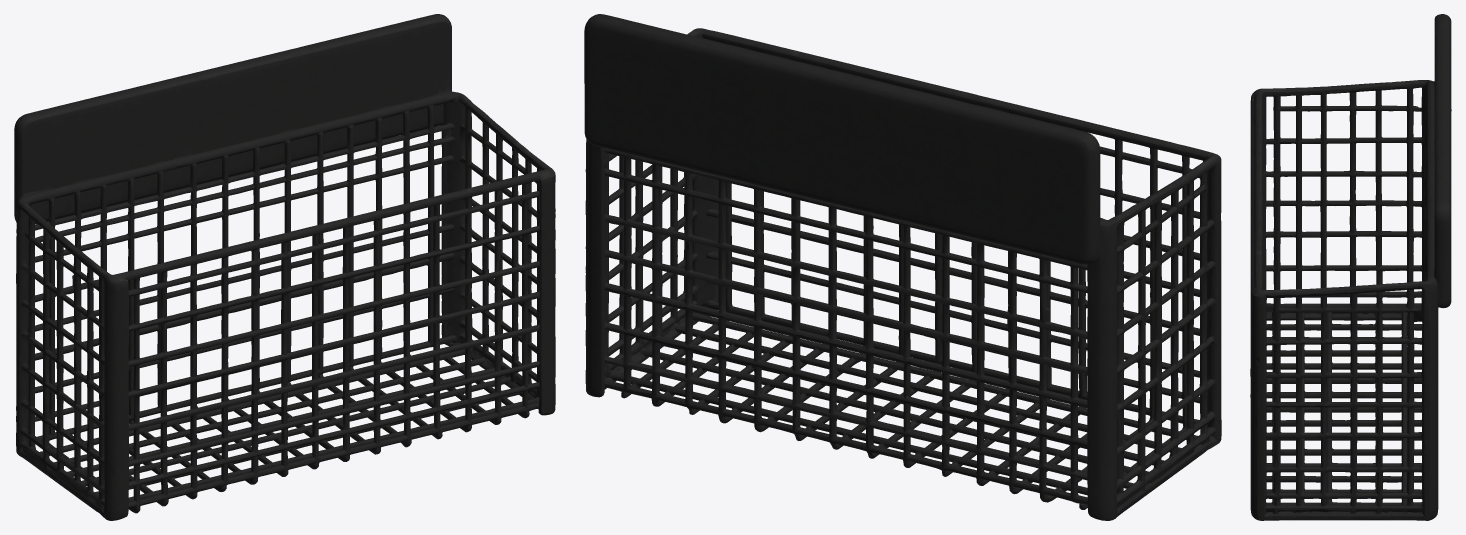
The model's file is item_83223353.glb.
The picture shows the model from 3 angles, left to right: view 1: azimuth 30°, elevation 25°; view 2: azimuth 150°, elevation 25°; view 3: azimuth 270°, elevation 25°; orthographic projection. The views are drawn at different scales.
Visible parts, largest first — view 1: world; view 2: world; view 3: world.
Part boxes in pixels (x1,y1,x2,y2): world: (14, 14, 555, 520); world: (584, 14, 1221, 520); world: (1250, 14, 1451, 520).
Size of the model in its own units: 0.45 by 0.3174 by 0.1859.
Materials: 1 (1 with a texture image).
